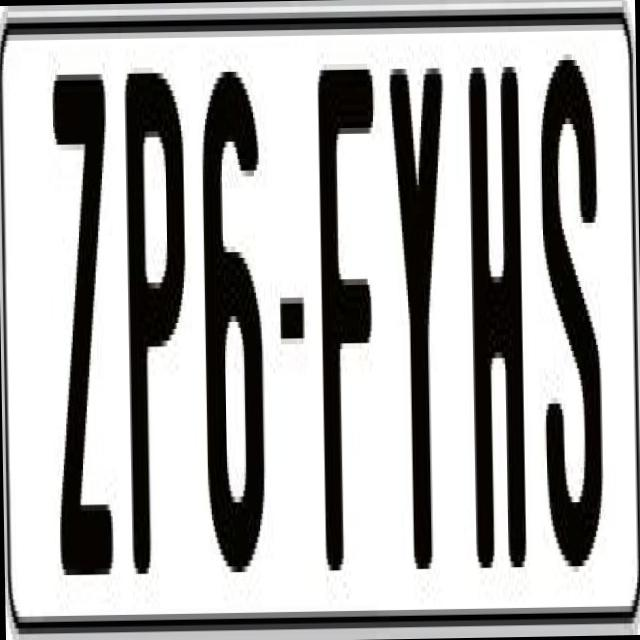6: (197, 53, 270, 555)
F: (312, 63, 376, 582)
H: (462, 48, 530, 550)
P: (118, 61, 194, 580)
S: (535, 59, 603, 572)
Y: (388, 67, 458, 569)
Z: (47, 62, 115, 580)
